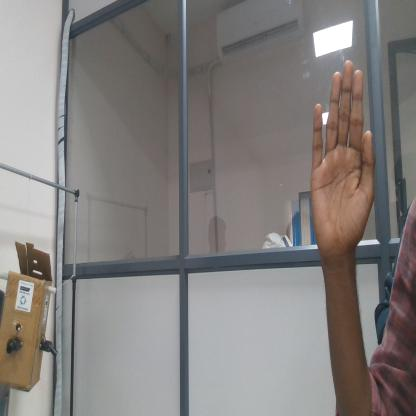Stop: (306, 37, 382, 270)
